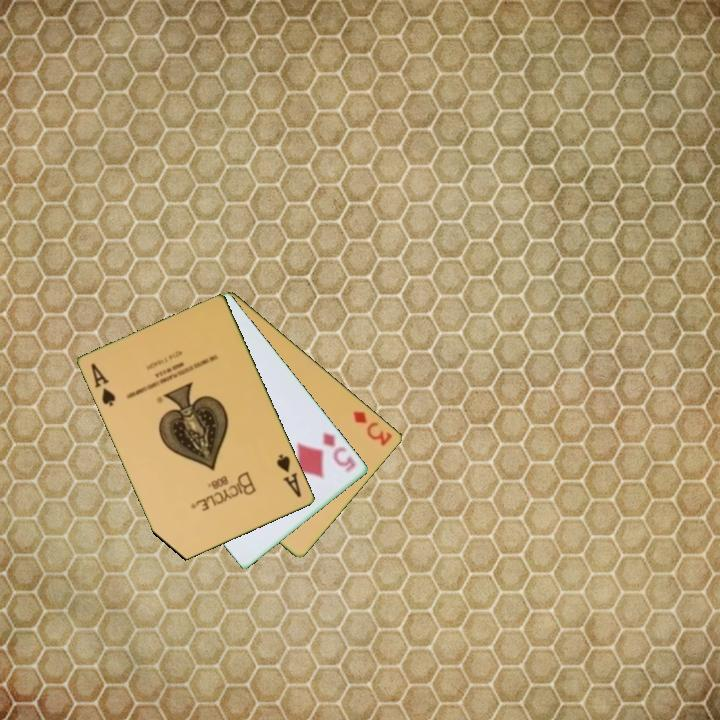3d: (350, 407, 396, 449)
5d: (320, 429, 359, 475)
As: (273, 450, 305, 501), (88, 360, 119, 409)
